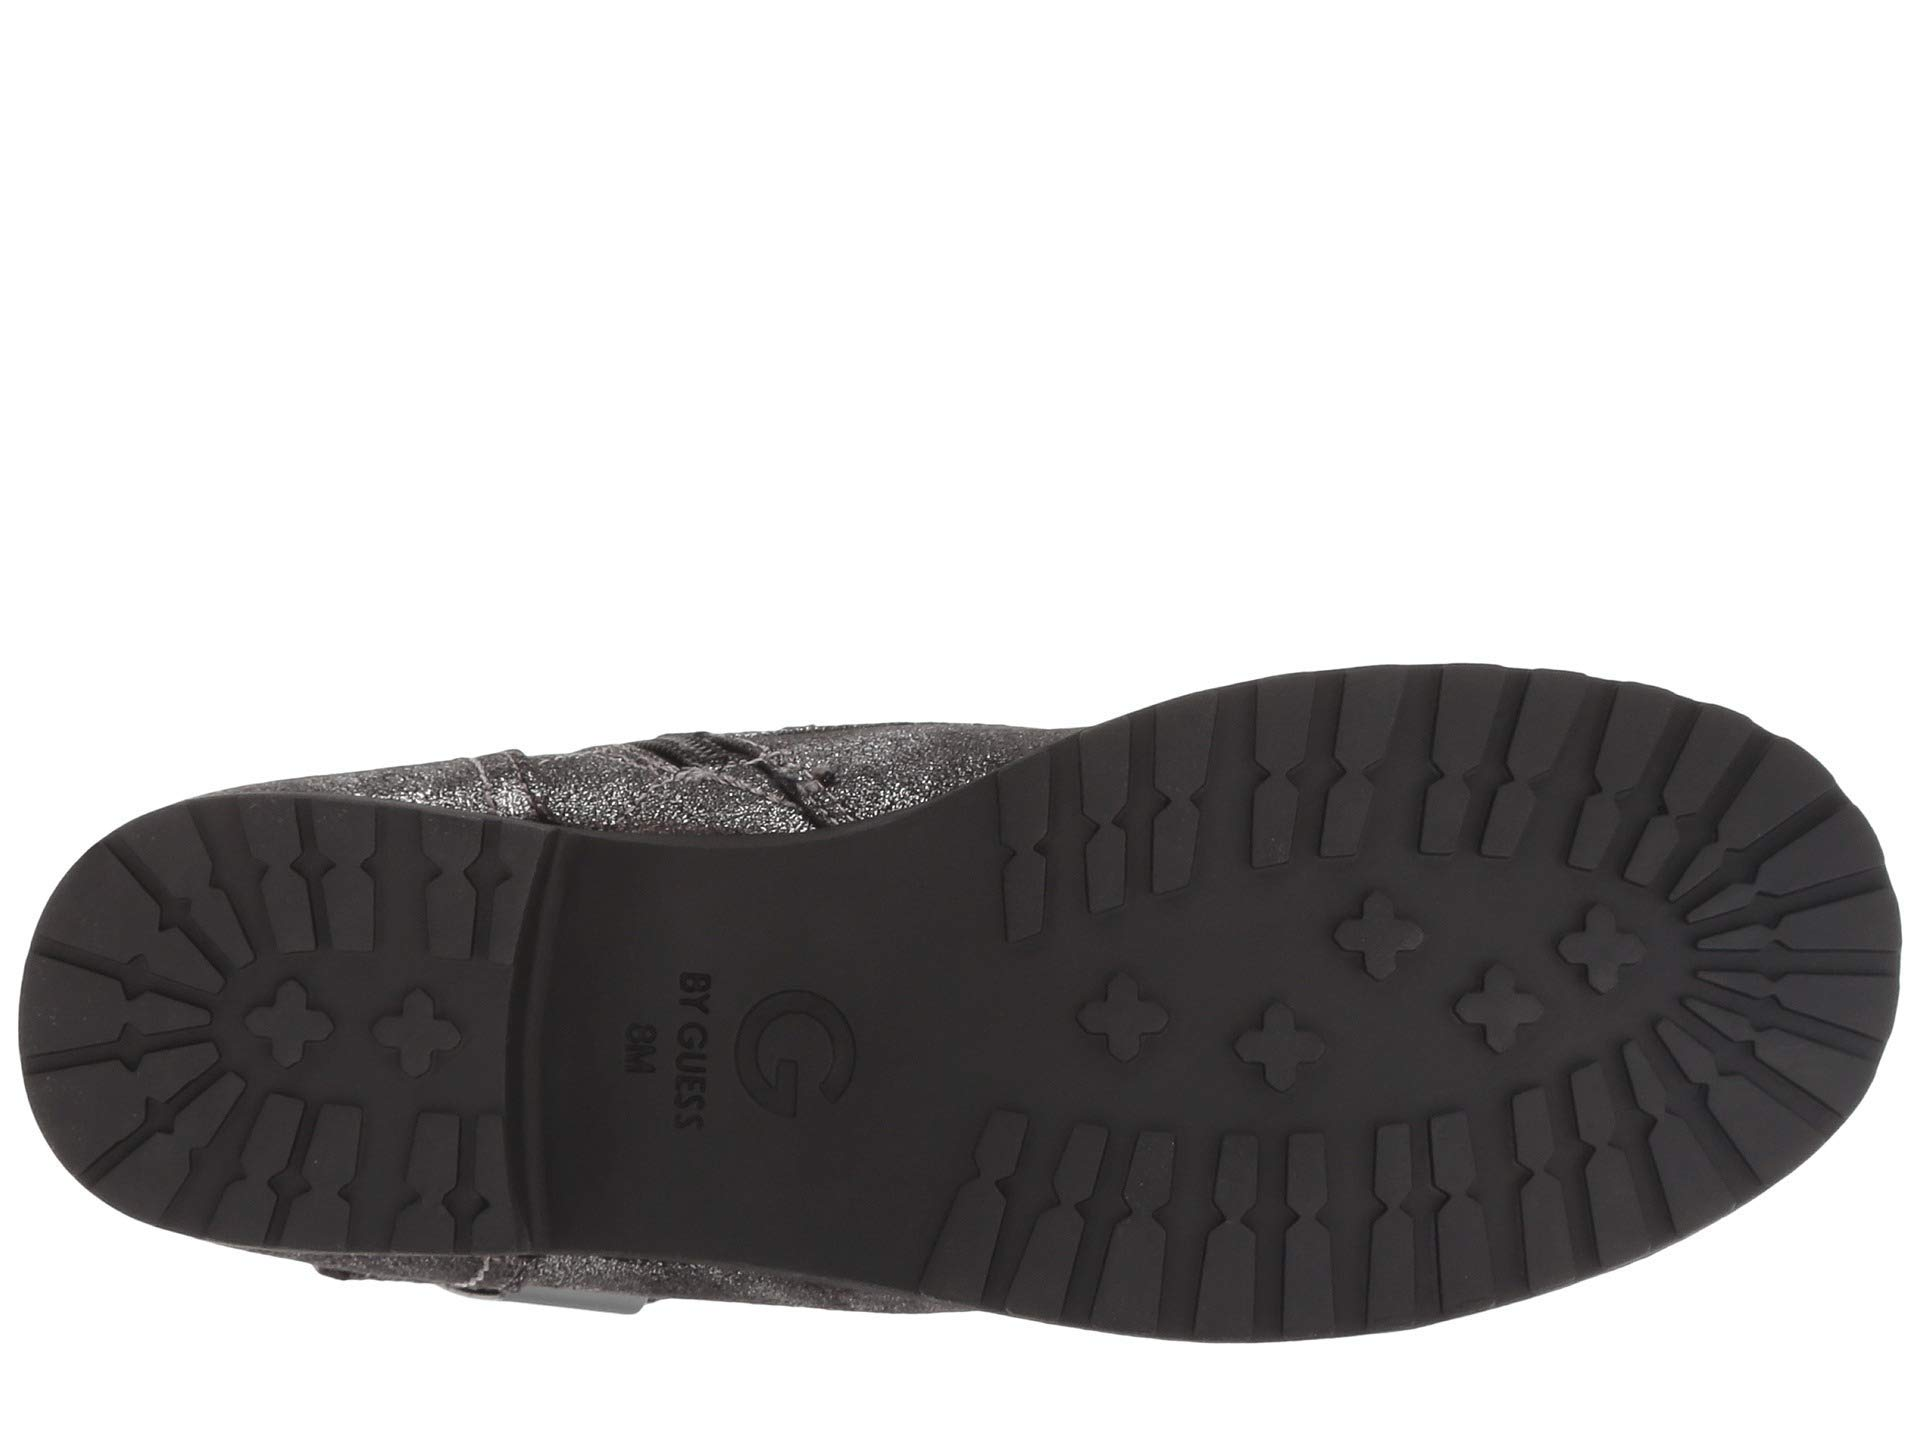bowtie: (1238, 791, 1730, 1278), (113, 796, 479, 1198)
star: (1238, 791, 1730, 1278), (113, 796, 479, 1198)
